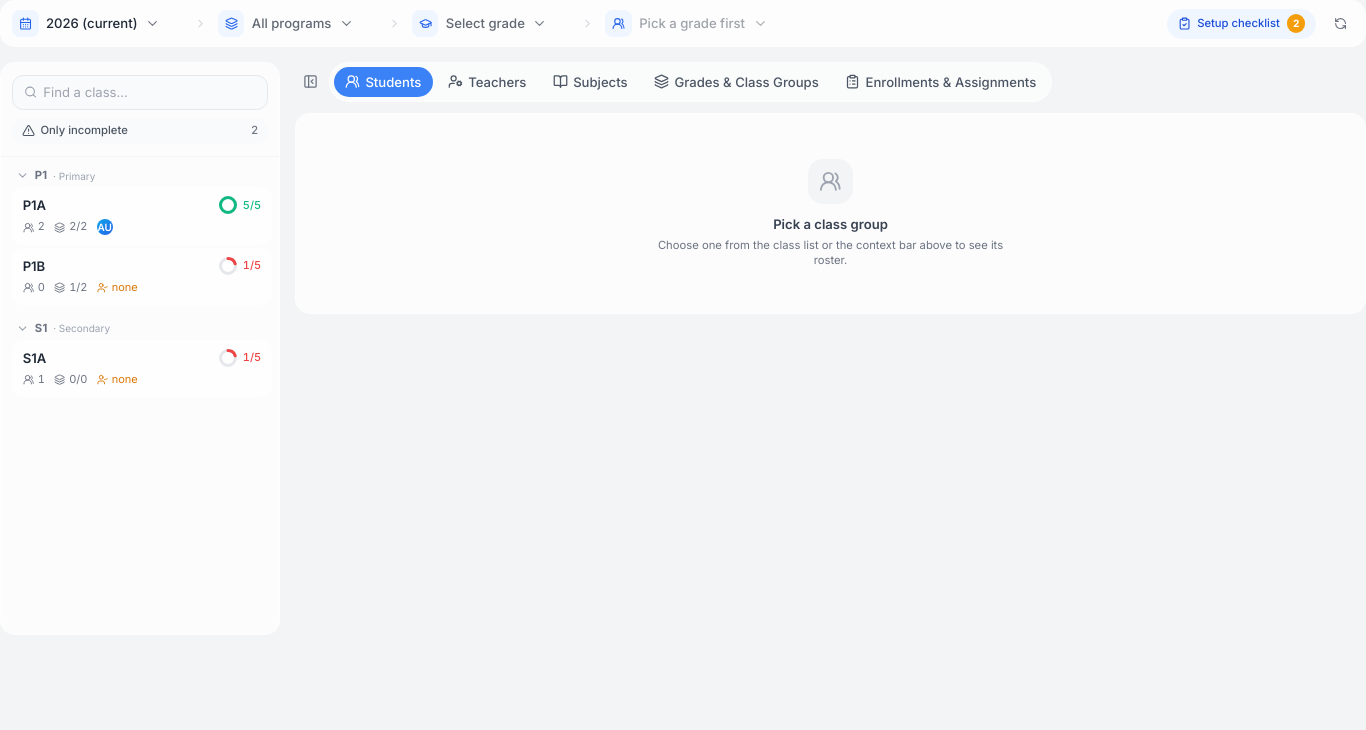
Test case: Setup checklist › reveals complete class groups on demand
Expected: the text "P1A" is shown, left=23, top=196, right=46, bottom=215
Click the button "Setup checklist 2" at (1242,24), box left=1167, top=8, right=1316, bottom=38
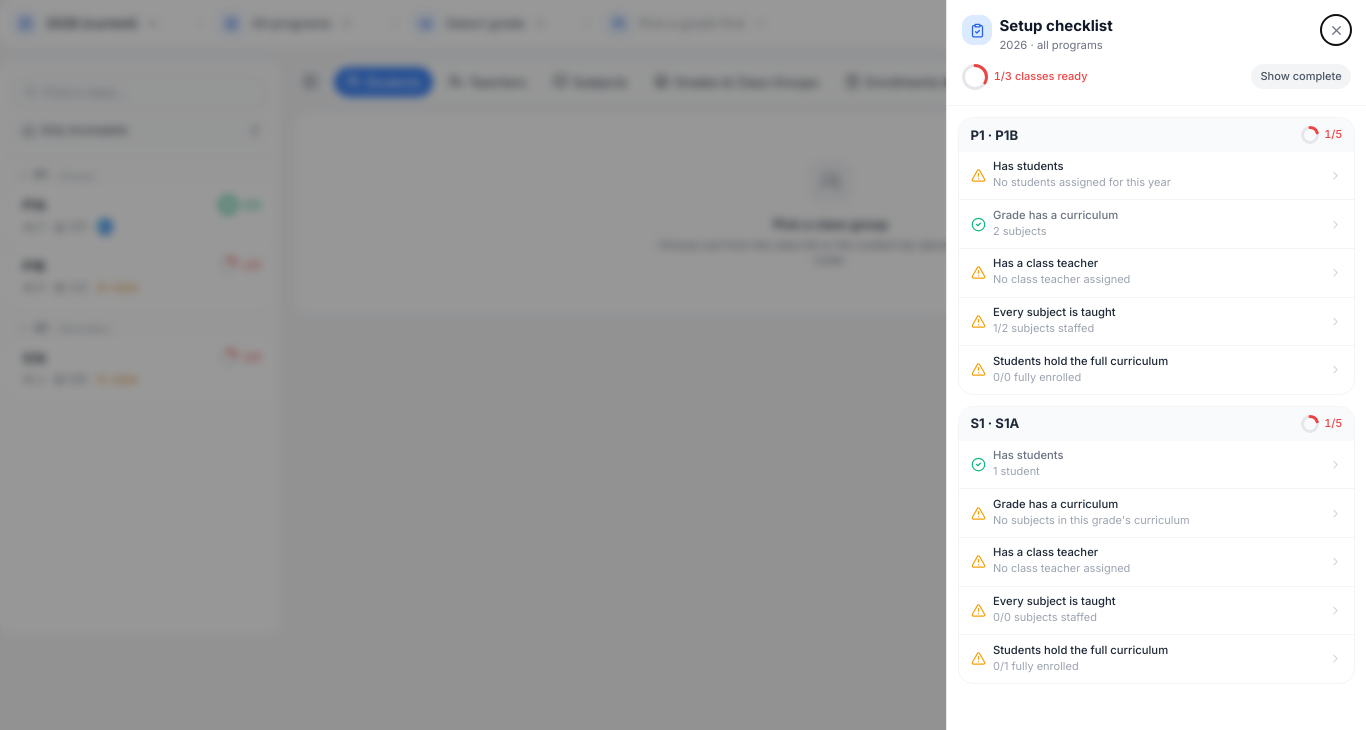
Click the button "Show complete" at (1301,77), box left=1251, top=64, right=1351, bottom=89
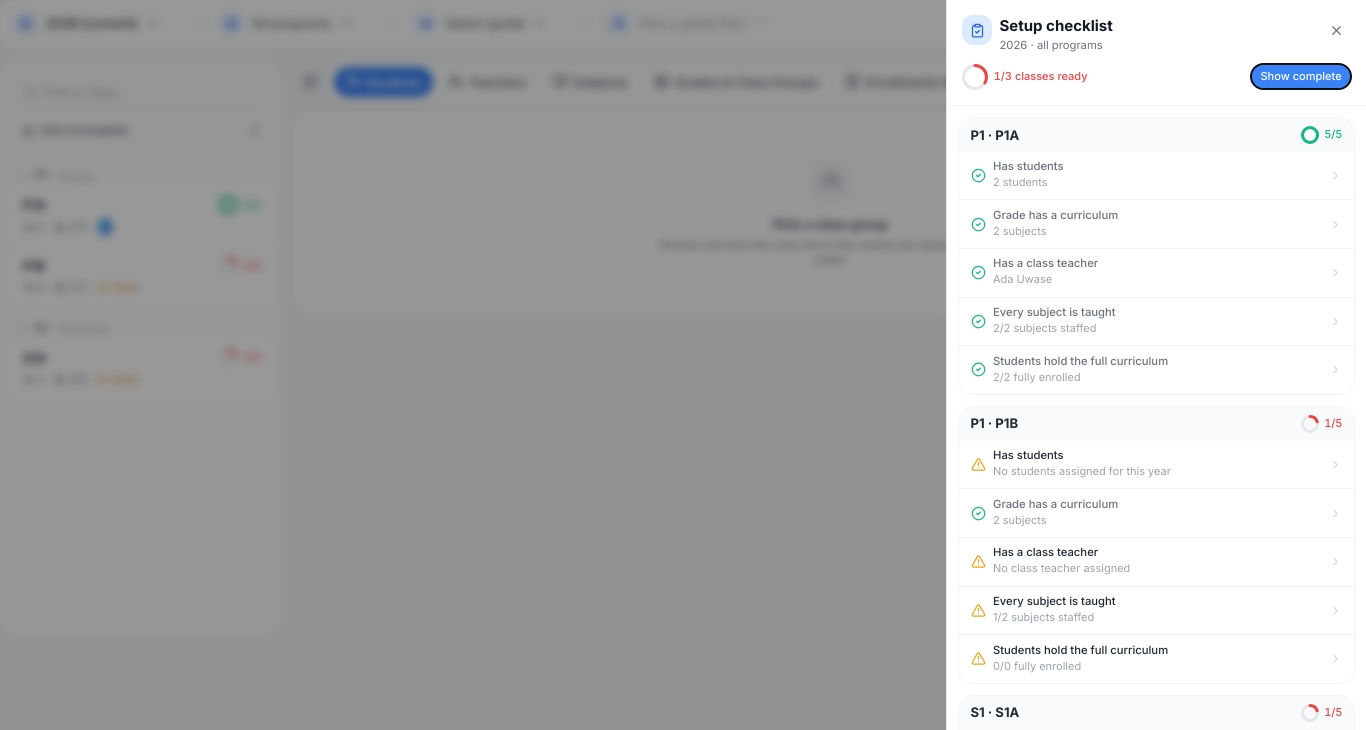
Now the text "P1 · P1A" is shown, box left=970, top=126, right=1019, bottom=144
